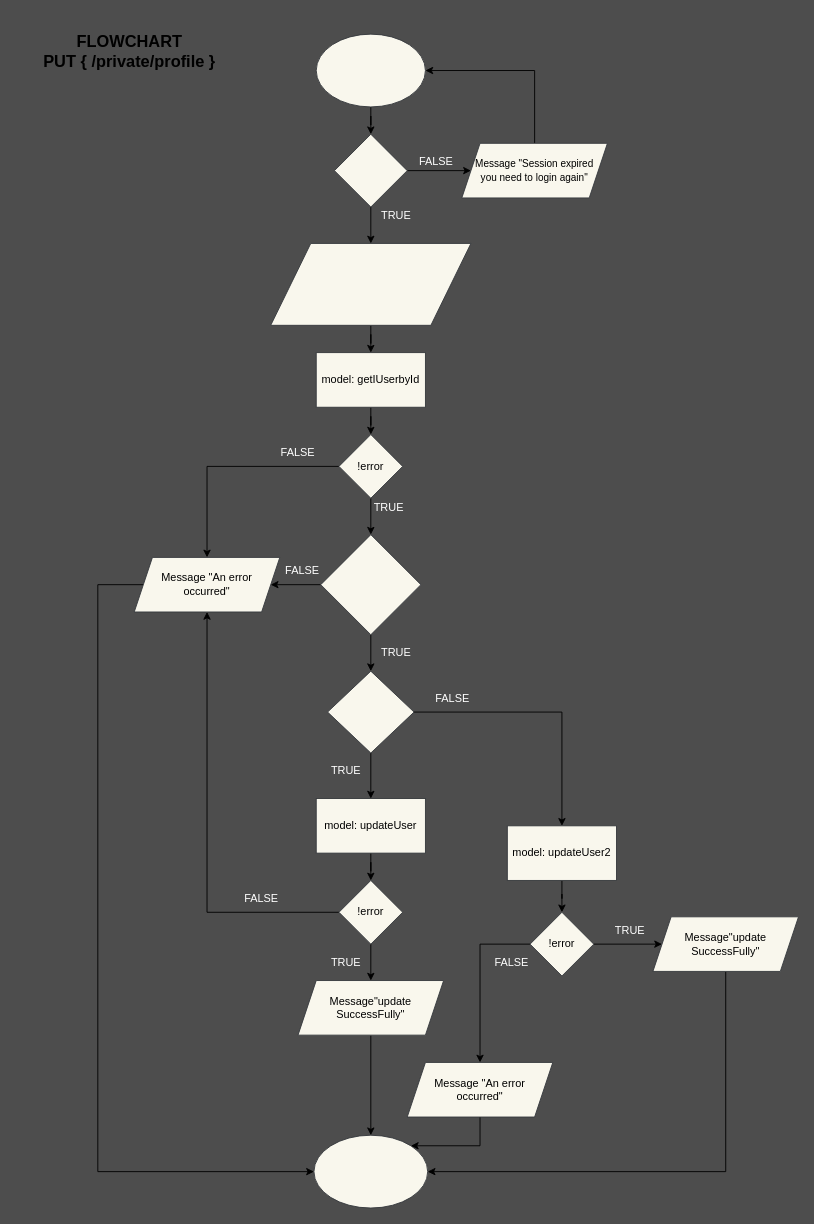
This 814x1224 diagram has some shape labels left out. The centre of each missing label's shape, as x and y in pixels:
"authUser = login" goes at (x=370, y=170).
"END" goes at (x=370, y=1171).
"input: name, email, address, password" goes at (x=370, y=284).
"password === true" goes at (x=370, y=711).
"result.length > 0" goes at (x=370, y=584).
"START" goes at (x=370, y=70).
